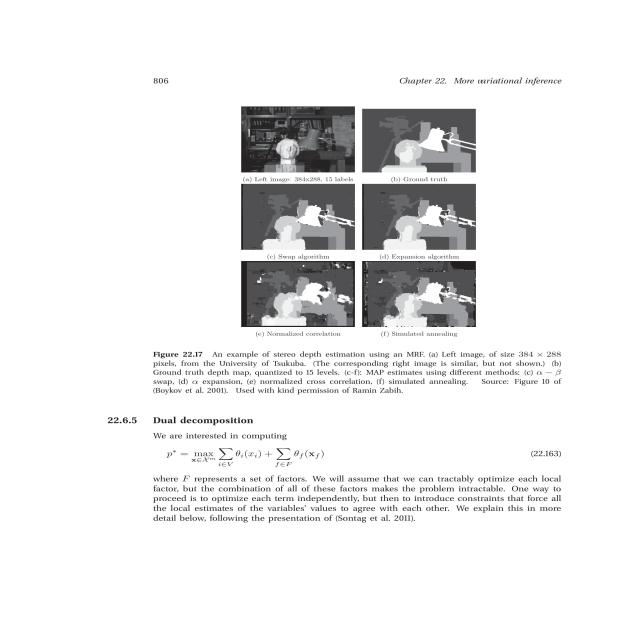diagram: (62, 94, 640, 411)
